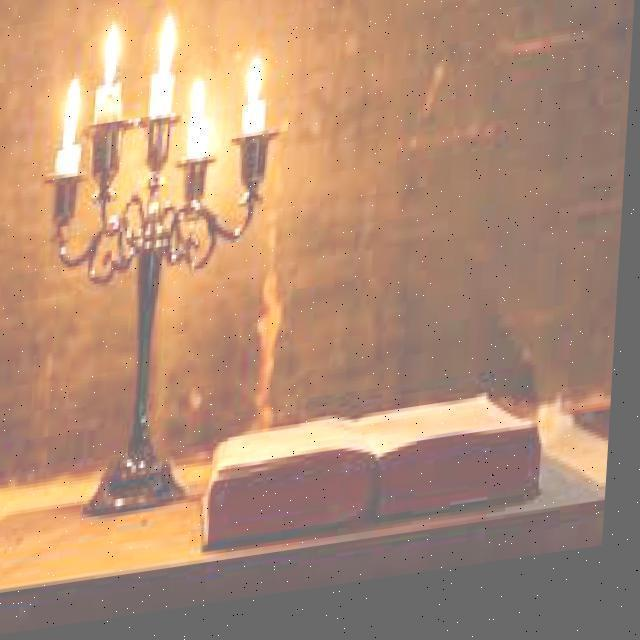Fire: (153, 14, 180, 86), (56, 77, 84, 146), (98, 24, 121, 93), (186, 76, 209, 131), (240, 59, 263, 114)
